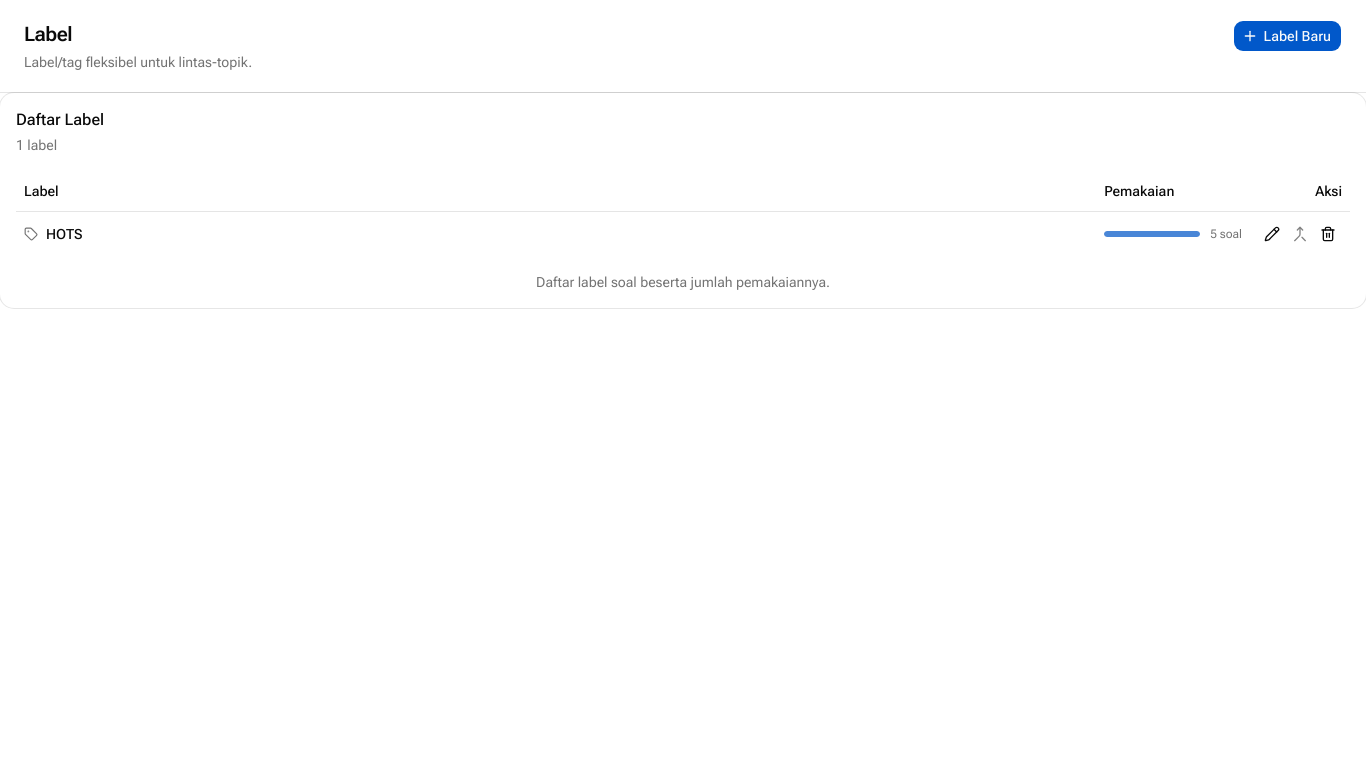
Scenario: LabelsView — dialog Label Baru › membuka dialog Label Baru saat tombol Label Baru diklik
The image size is (1366, 768).
Step 1. Click the button "Label Baru" → (1287, 36), box [1232,20,1342,52]
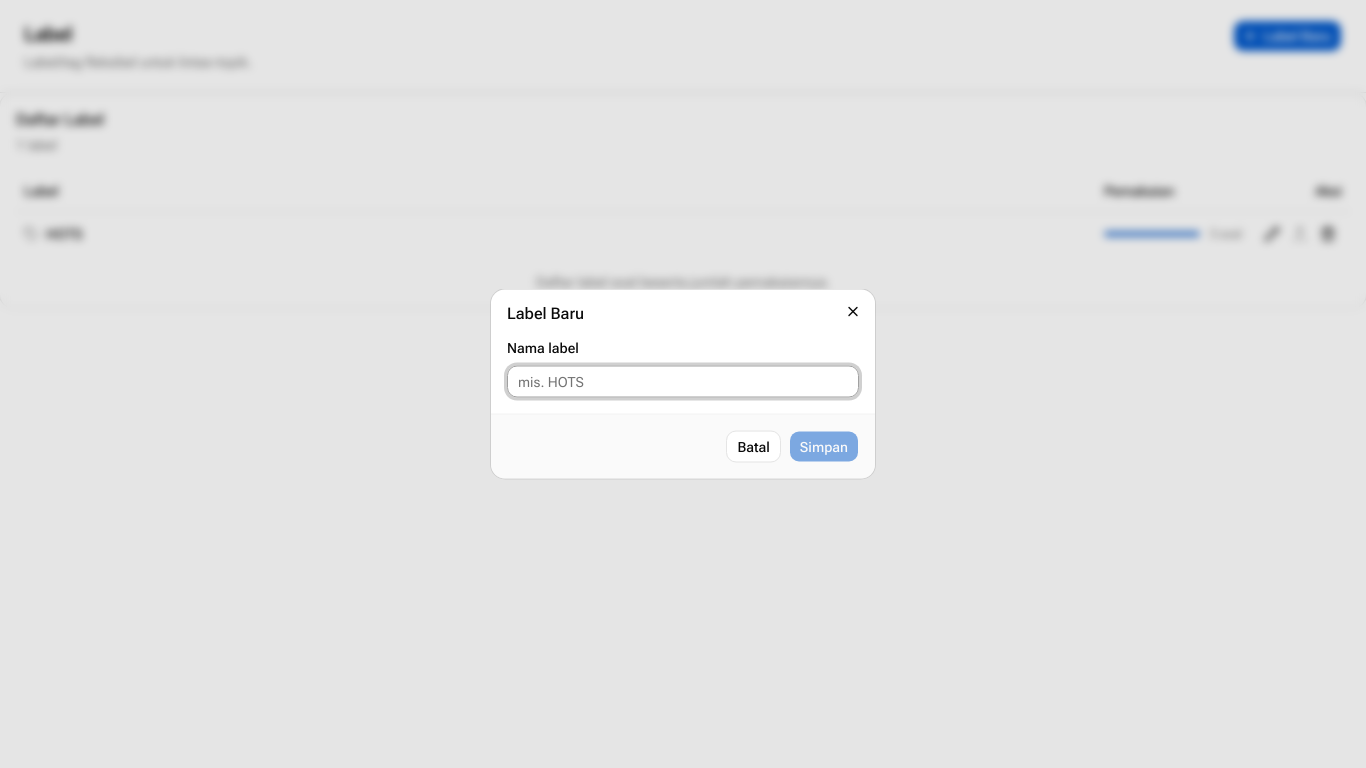
expect the heading "Label Baru" is shown: met, box [507,304,584,322]
